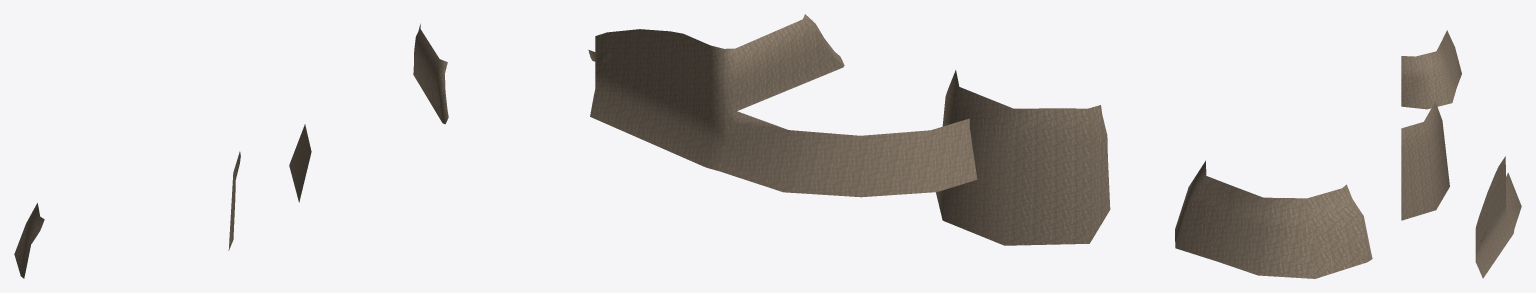
File: kd_stage_1364a3_4_3_bounded.glb
3 renders of one model, left to right at view 1: azimuth 30°, elevation 25°; view 2: azimuth 150°, elevation 25°; view 3: azimuth 270°, elevation 25°, orthographic. The views are drawn at different scales.
Parts seen in each view (by area): view 1: kd_stage_1364a3_4_3_bounded; view 2: kd_stage_1364a3_4_3_bounded; view 3: kd_stage_1364a3_4_3_bounded.
Boxes of the visible parts, x1,y1,x2,y2 form: kd_stage_1364a3_4_3_bounded: (14,23,448,278); kd_stage_1364a3_4_3_bounded: (588,14,1372,278); kd_stage_1364a3_4_3_bounded: (1401,30,1521,278).
Bounding box in the file's own units: 441 × 98.77 × 95.54.
1 material, 1 textured.
